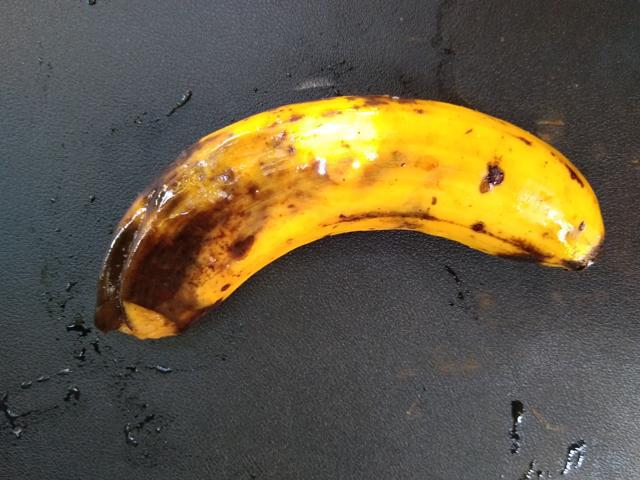overripe: (315, 63, 611, 308)
rotten: (51, 107, 359, 376)
